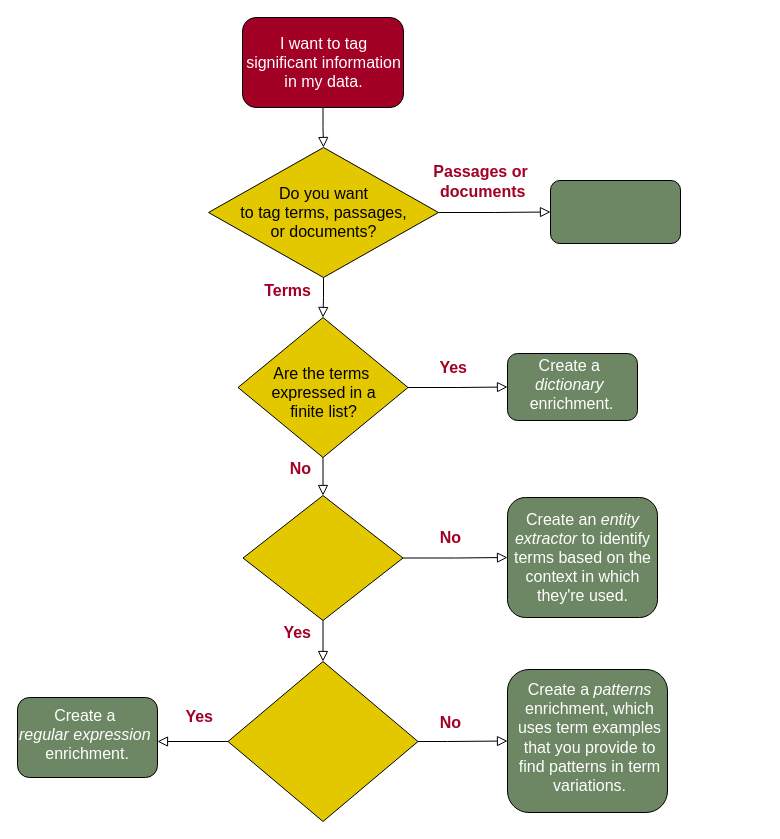
Some shapes in this 780 by 839 pixel diagram are drawn without their labels. Each missing label, with the box of its shape:
Create a classifier enrichment.: (550, 180, 680, 244)
Do all of the variations of the term fit a single pattern?: (227, 660, 418, 822)
Does the term syntax follow a pattern?: (242, 494, 403, 620)
